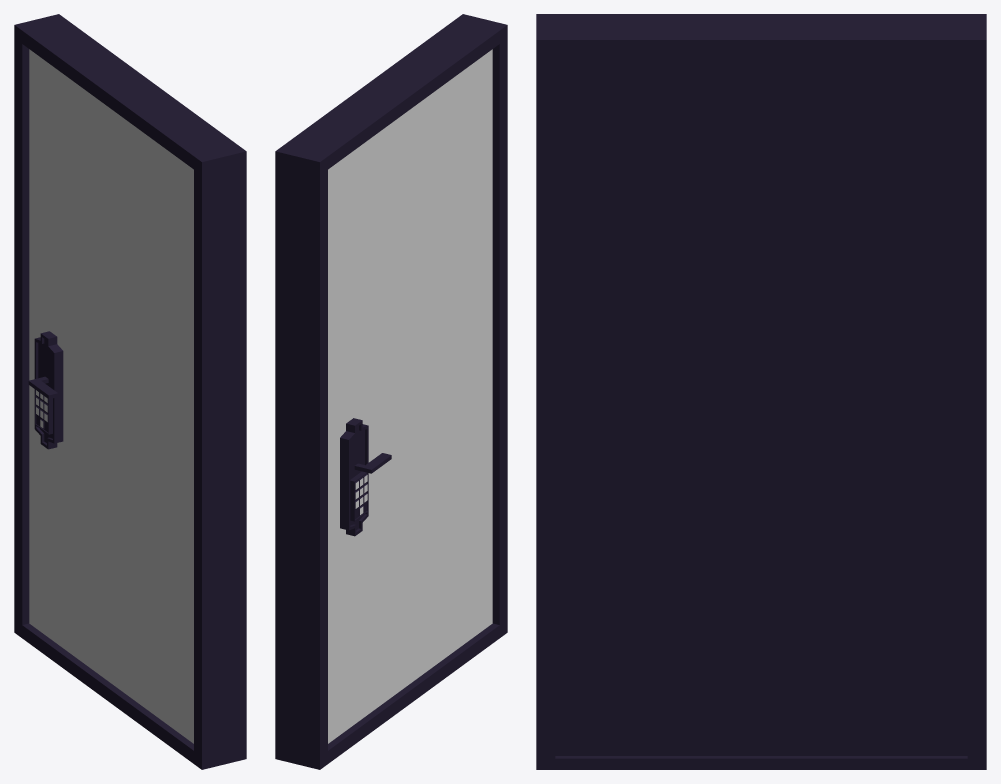
Rendered from porta.fbx.
3 views of the same model, side by side, from view 1: azimuth 30°, elevation 25°; view 2: azimuth 150°, elevation 25°; view 3: azimuth 270°, elevation 25° (orthographic). The views are drawn at different scales.
Parts seen in each view (by area): view 1: Cube.063; view 2: Cube.063; view 3: Cube.063.
Boxes of the visible parts, box(x1,y1,x2,y2) form: Cube.063: box(14, 14, 246, 769); Cube.063: box(275, 14, 507, 769); Cube.063: box(536, 14, 986, 769).
Bounding box in the file's own units: 88.24 × 809 × 453.
